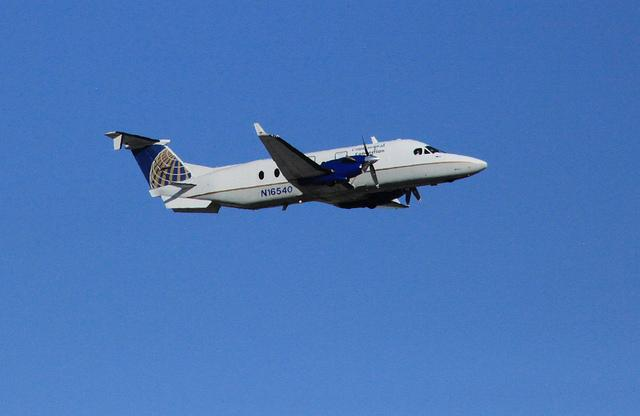airplane: (103, 119, 490, 216)
